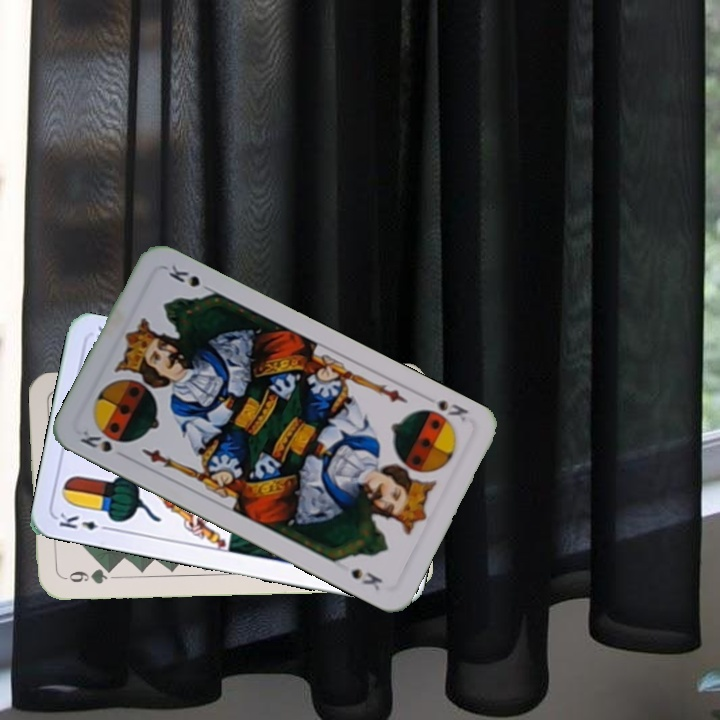EK: (55, 509, 114, 534)
G9: (58, 563, 117, 587)
SK: (76, 422, 130, 461), (433, 395, 471, 425)
